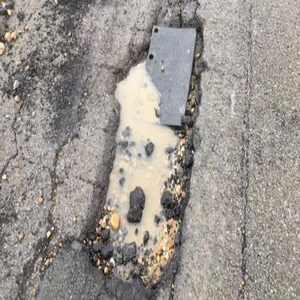pothole: (92, 9, 206, 291)
